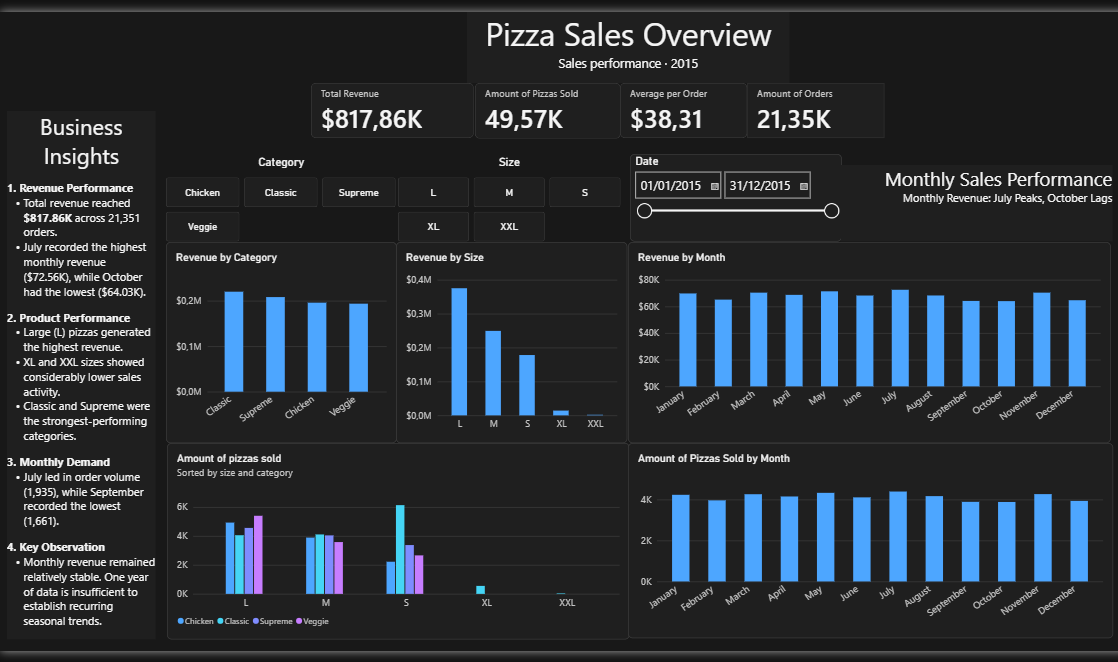

What the dashboard file says about the page in this screenshot:
{"tool":"powerbi","page":{"name":"Sales_Analysis","canvas":[1920,1080],"ordinal":0},"visuals":[{"type":"cardVisual","fields":{"Data":["order_details.Total Sales"]},"box":[525.6,120.2,275.4,93.1],"z":0},{"type":"clusteredColumnChart","title":"Revenue by Category","fields":{"Category":["pizza_types.category"],"Y":["order_details.Total Sales"]},"box":[280,388.6,390,340],"z":1000},{"type":"cardVisual","fields":{"Data":["orders.Total Orders"]},"box":[1262.5,120,232.5,93.8],"z":2000},{"type":"cardVisual","fields":{"Data":["orders.Average Order Value"]},"box":[1047.5,120,215,93.8],"z":3000},{"type":"clusteredColumnChart","title":"Revenue by Size","fields":{"Category":["pizzas.size"],"Y":["order_details.Total Sales"]},"box":[670,388.6,391.4,340],"z":4000},{"type":"clusteredColumnChart","title":"Amount of pizzas sold","fields":{"Category":["pizzas.size"],"Series":["pizza_types.category"],"Y":["order_details.Total Pizzas Sold"]},"box":[281.4,728.6,782,332],"z":5000},{"type":"cardVisual","fields":{"Data":["order_details.Total Pizzas Sold"]},"box":[802,120,246,94],"z":6000},{"type":"advancedSlicerVisual","title":"Category","fields":{"Values":["pizza_types.category"]},"box":[280,242,390,146],"z":7000},{"type":"advancedSlicerVisual","title":"Size","fields":{"Values":["pizzas.size"]},"box":[672,242,376,146],"z":8000},{"type":"slicer","fields":{"Values":["orders.date"]},"box":[1064,240,358,148],"z":9000},{"type":"clusteredColumnChart","title":"Revenue by Month","fields":{"Category":["orders.Month Name"],"Y":["order_details.Total Sales"]},"box":[1061.4,388.6,815.7,340],"z":10000},{"type":"clusteredColumnChart","title":"Amount of Pizzas Sold by Month","fields":{"Category":["orders.Month Name"],"Y":["order_details.Total Pizzas Sold"]},"box":[1061.4,728.6,820,330],"z":11000},{"type":"textbox","box":[790,0,545,120.2],"z":12000},{"type":"textbox","box":[1421.4,258.6,458.6,128.6],"z":13000},{"type":"textbox","box":[11.4,167.1,251.4,892.9],"z":14000}]}

Visuals, with their boxes on the page's 1920x1080 design canvas (x1, y1, x2, y2). These are canvas units, not pixel positions in the 1118x662 screenshot, which may show the page scaled, cropped or inside an application window:
cardVisual - order_details.Total Sales: bbox=[526, 120, 801, 213]
"Revenue by Category" clusteredColumnChart: bbox=[280, 389, 670, 729]
cardVisual - orders.Total Orders: bbox=[1262, 120, 1495, 214]
cardVisual - orders.Average Order Value: bbox=[1048, 120, 1262, 214]
"Revenue by Size" clusteredColumnChart: bbox=[670, 389, 1061, 729]
"Amount of pizzas sold" clusteredColumnChart: bbox=[281, 729, 1063, 1061]
cardVisual - order_details.Total Pizzas Sold: bbox=[802, 120, 1048, 214]
"Category" advancedSlicerVisual: bbox=[280, 242, 670, 388]
"Size" advancedSlicerVisual: bbox=[672, 242, 1048, 388]
slicer - orders.date: bbox=[1064, 240, 1422, 388]
"Revenue by Month" clusteredColumnChart: bbox=[1061, 389, 1877, 729]
"Amount of Pizzas Sold by Month" clusteredColumnChart: bbox=[1061, 729, 1881, 1059]
textbox: bbox=[790, 0, 1335, 120]
textbox: bbox=[1421, 259, 1880, 387]
textbox: bbox=[11, 167, 263, 1060]
